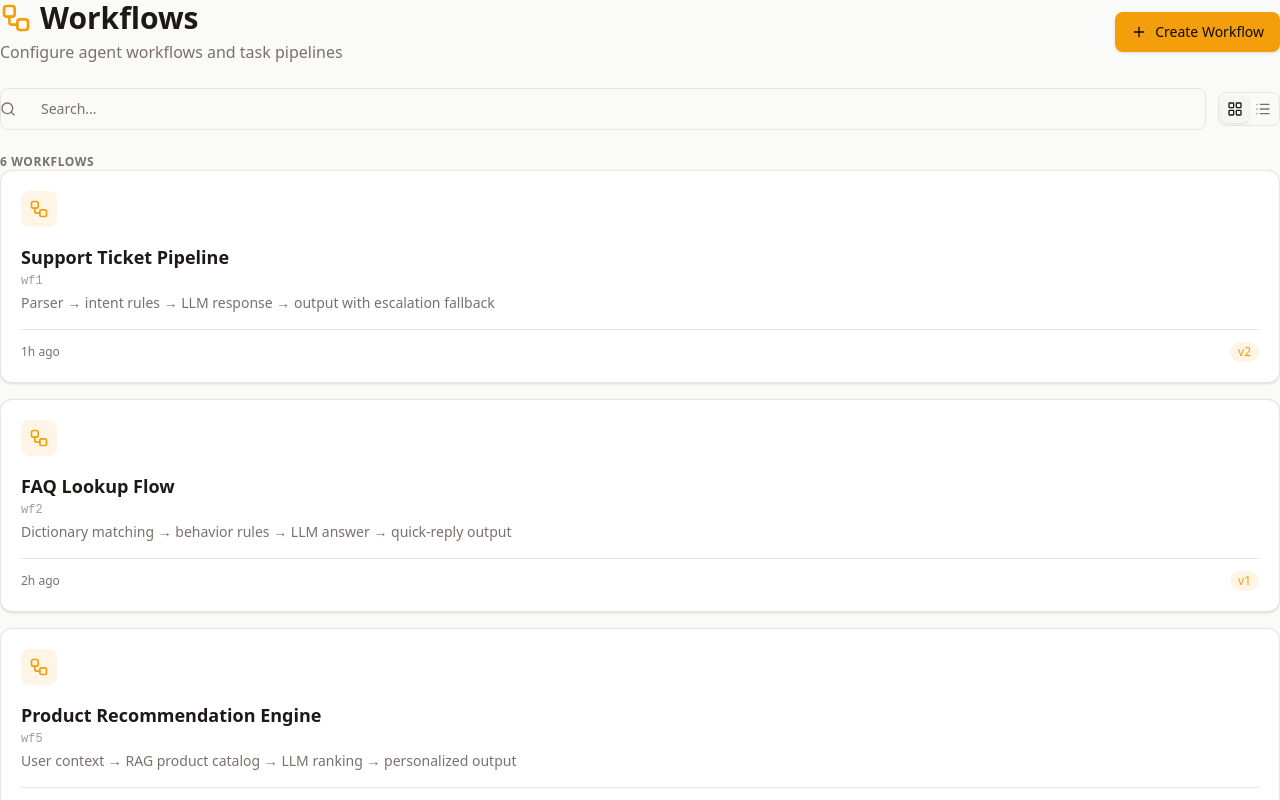
Test: WorkflowsPage › opens create workflow dialog when create button is clicked
Click the button with test id "create-workflow-btn" at (1198, 32), box [1115,12,1279,52]
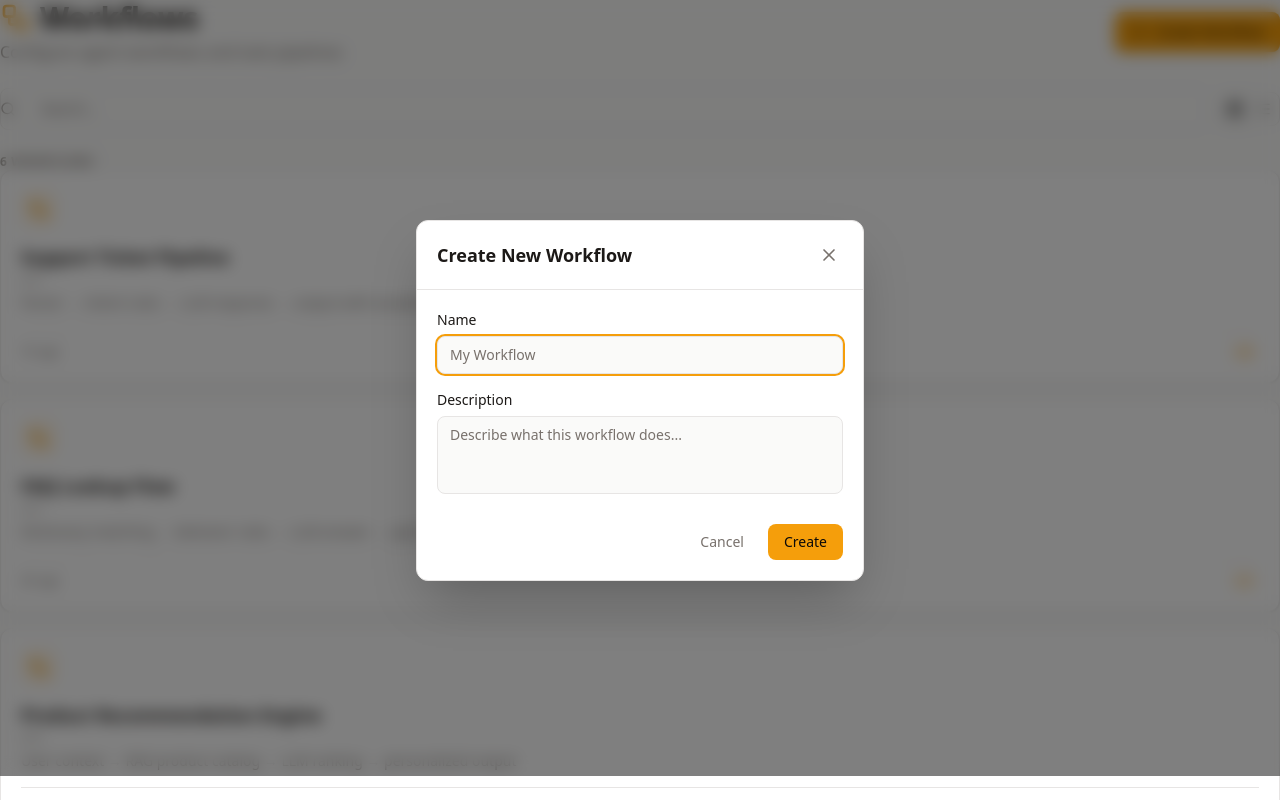
Result: the heading "Create New Workflow" is shown at [437,240,632,268]
